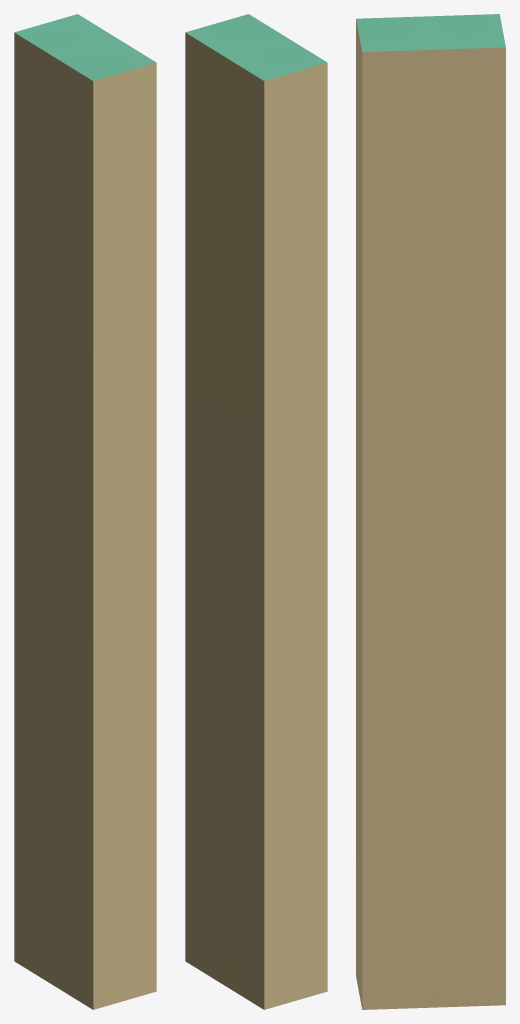
The model's file is Blocks-166.fbx.
3 views of the same model, side by side, from view 1: azimuth 30°, elevation 25°; view 2: azimuth 210°, elevation 25°; view 3: azimuth 270°, elevation 25° (orthographic). The views are drawn at different scales.
Visible parts, largest first — view 1: Blocks-166; view 2: Blocks-166; view 3: Blocks-166.
Part boxes in pixels (box(x1,y1,x2,y2)): Blocks-166: box(14, 14, 156, 1009); Blocks-166: box(185, 14, 327, 1009); Blocks-166: box(356, 14, 505, 1009).
Size of the model in its own units: 2705 by 31611 by 4482.
